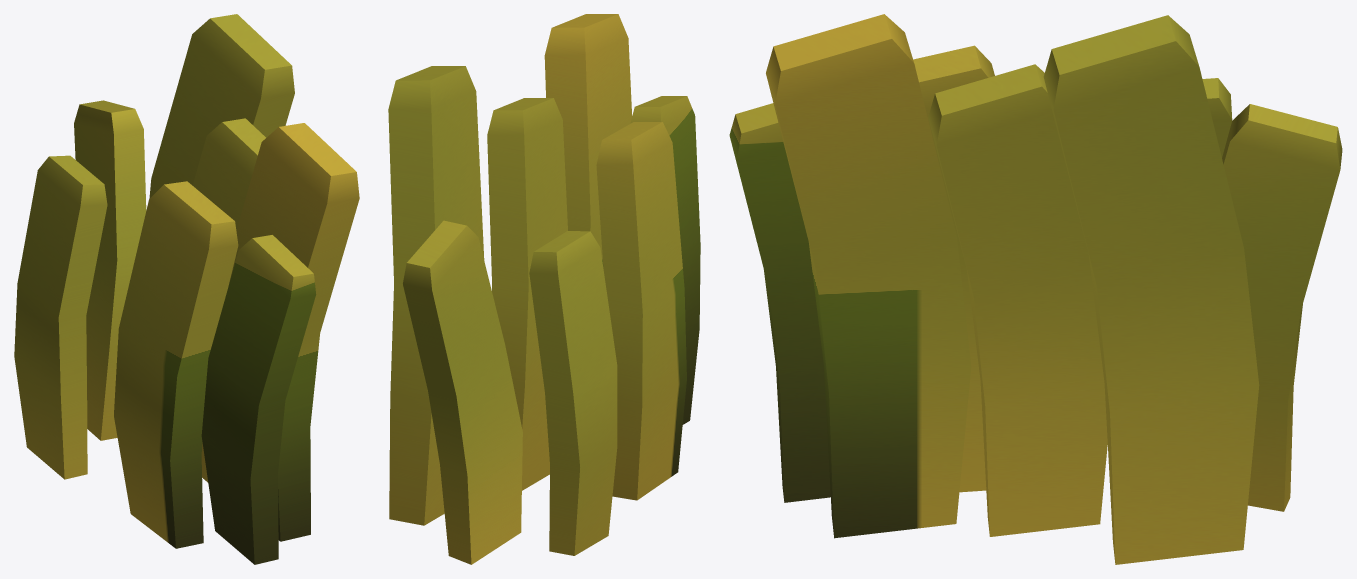
File: seagrass.fbx
The picture shows the model from 3 angles, left to right: view 1: azimuth 30°, elevation 25°; view 2: azimuth 150°, elevation 25°; view 3: azimuth 270°, elevation 25°; orthographic projection. The views are drawn at different scales.
Parts seen in each view (by area): view 1: pCube13; view 2: pCube13; view 3: pCube13.
Boxes of the visible parts, box(x1,y1,x2,y2) form: pCube13: box(14, 14, 359, 564); pCube13: box(388, 14, 700, 564); pCube13: box(729, 14, 1342, 564).
Bounding box in the file's own units: 0.4559 × 0.8717 × 0.8799.
